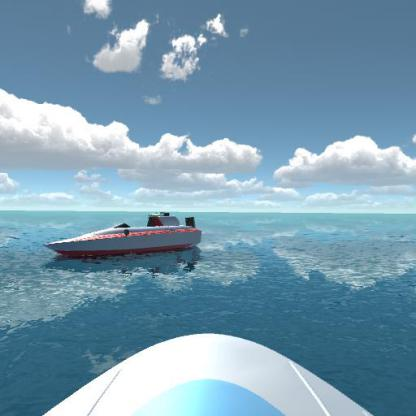usv0: (146, 206, 172, 221)
usv3: (39, 204, 210, 266)
